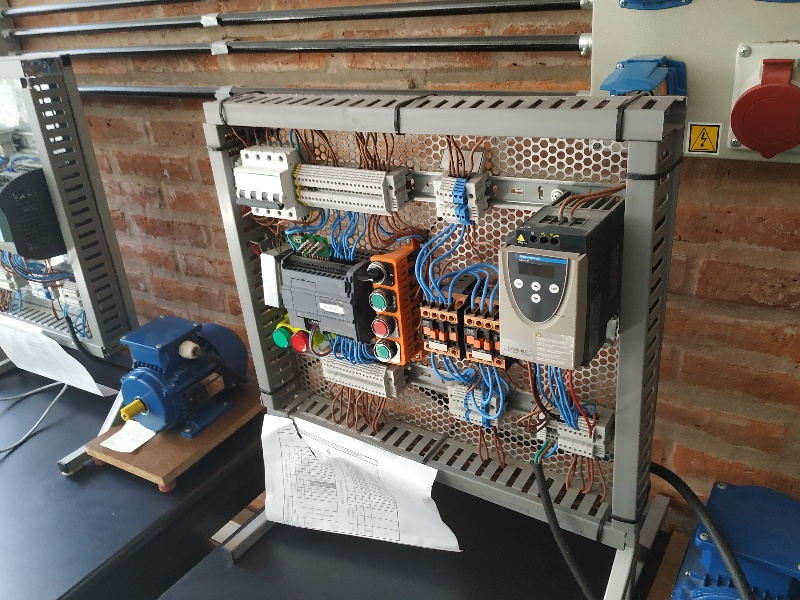Tablero 4: (213, 115, 630, 514)
